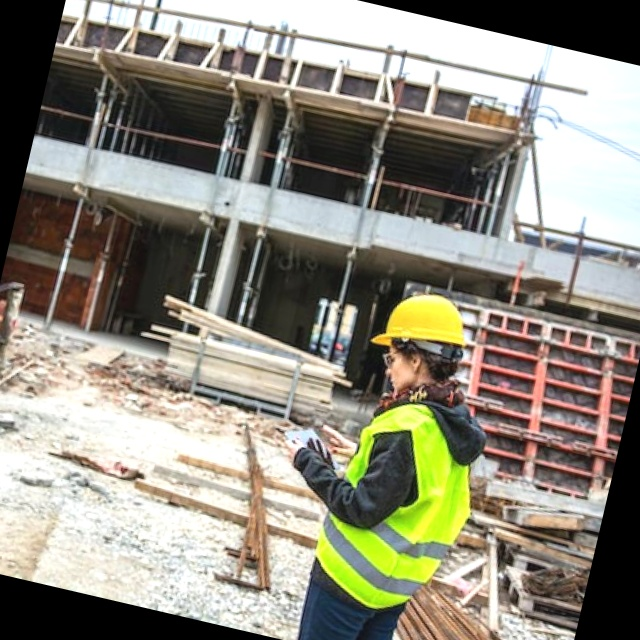goggles: (382, 324, 430, 348)
helmet: (385, 271, 473, 318)
vest: (375, 380, 512, 590)
